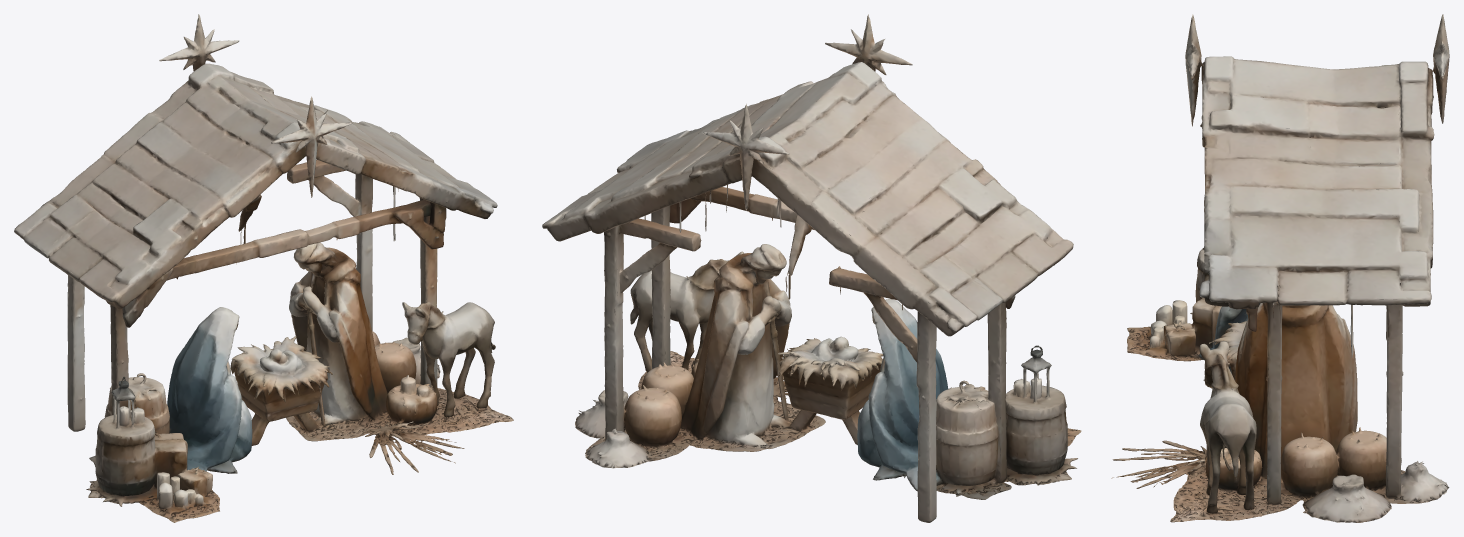
File: scene-three.glb
The picture shows the model from 3 angles, left to right: view 1: azimuth 30°, elevation 25°; view 2: azimuth 150°, elevation 25°; view 3: azimuth 270°, elevation 25°; orthographic projection. The views are drawn at different scales.
Parts seen in each view (by area): view 1: tripo_node_a64f59e5-7c05-44de-9310-8f5748ce698a; view 2: tripo_node_a64f59e5-7c05-44de-9310-8f5748ce698a; view 3: tripo_node_a64f59e5-7c05-44de-9310-8f5748ce698a.
Part boxes in pixels (x1=…): tripo_node_a64f59e5-7c05-44de-9310-8f5748ce698a: x1=14, y1=14, x2=513, y2=522; tripo_node_a64f59e5-7c05-44de-9310-8f5748ce698a: x1=542, y1=14, x2=1081, y2=522; tripo_node_a64f59e5-7c05-44de-9310-8f5748ce698a: x1=1111, y1=14, x2=1449, y2=522.
Size of the model in its own units: 0.9987 by 0.8663 by 0.6522.
